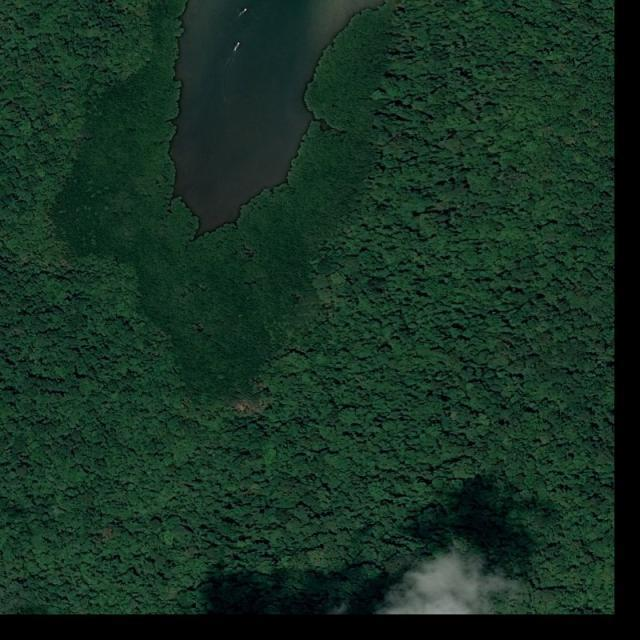ship: (234, 42, 242, 50), (241, 8, 248, 14)
